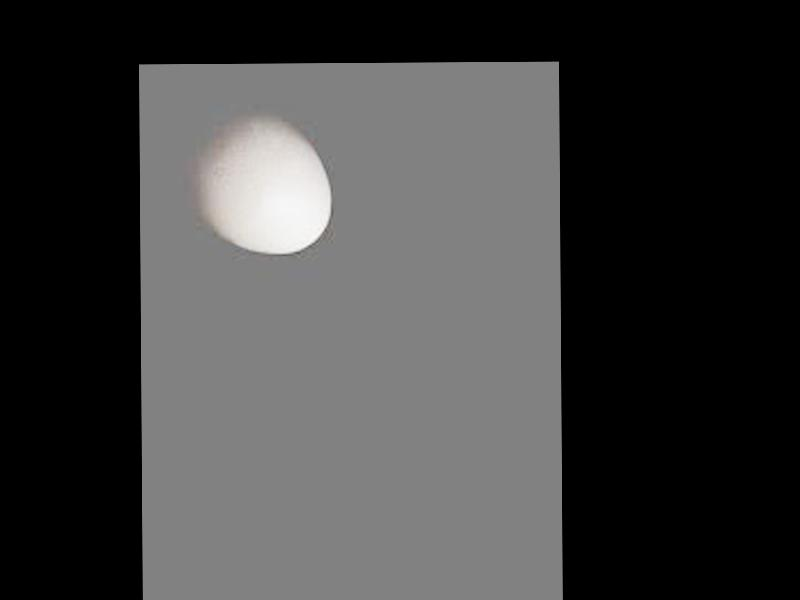Eggs: (193, 110, 332, 254)
